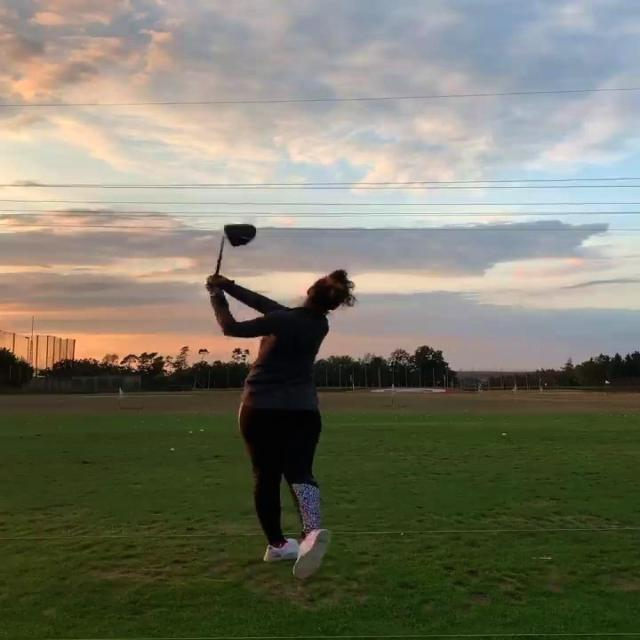golf club-handle: (215, 224, 256, 275)
golf club-head: (223, 224, 255, 246)
